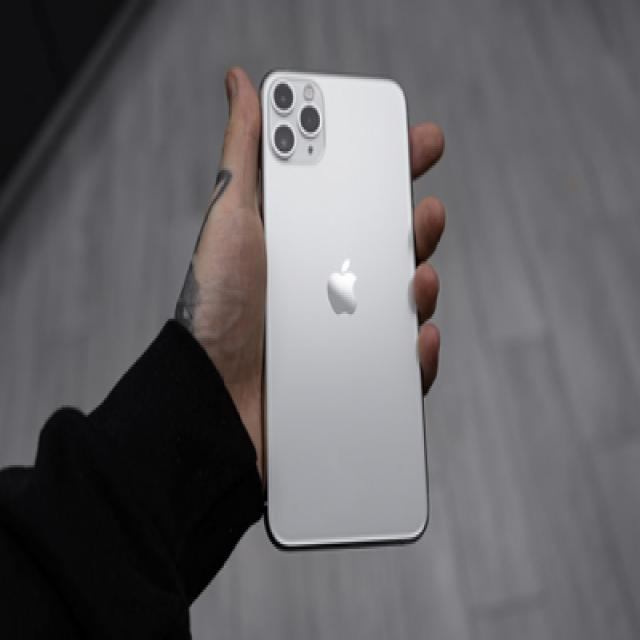cellphone: (257, 67, 428, 549)
